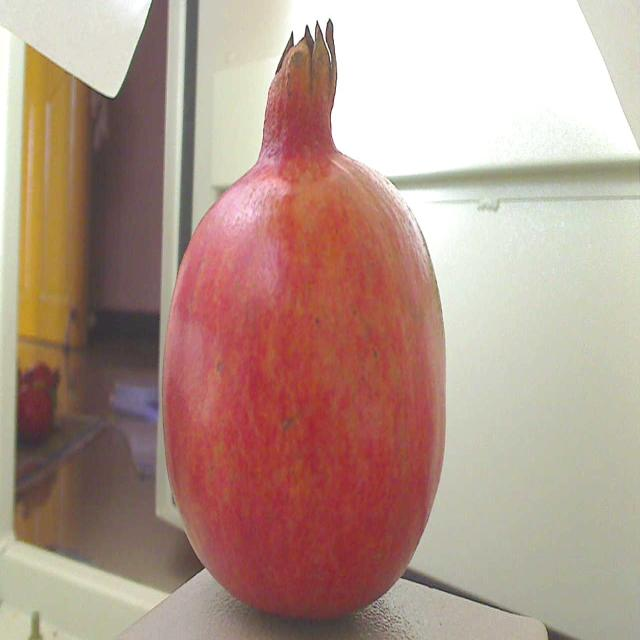pomegranate: (149, 18, 457, 640)
